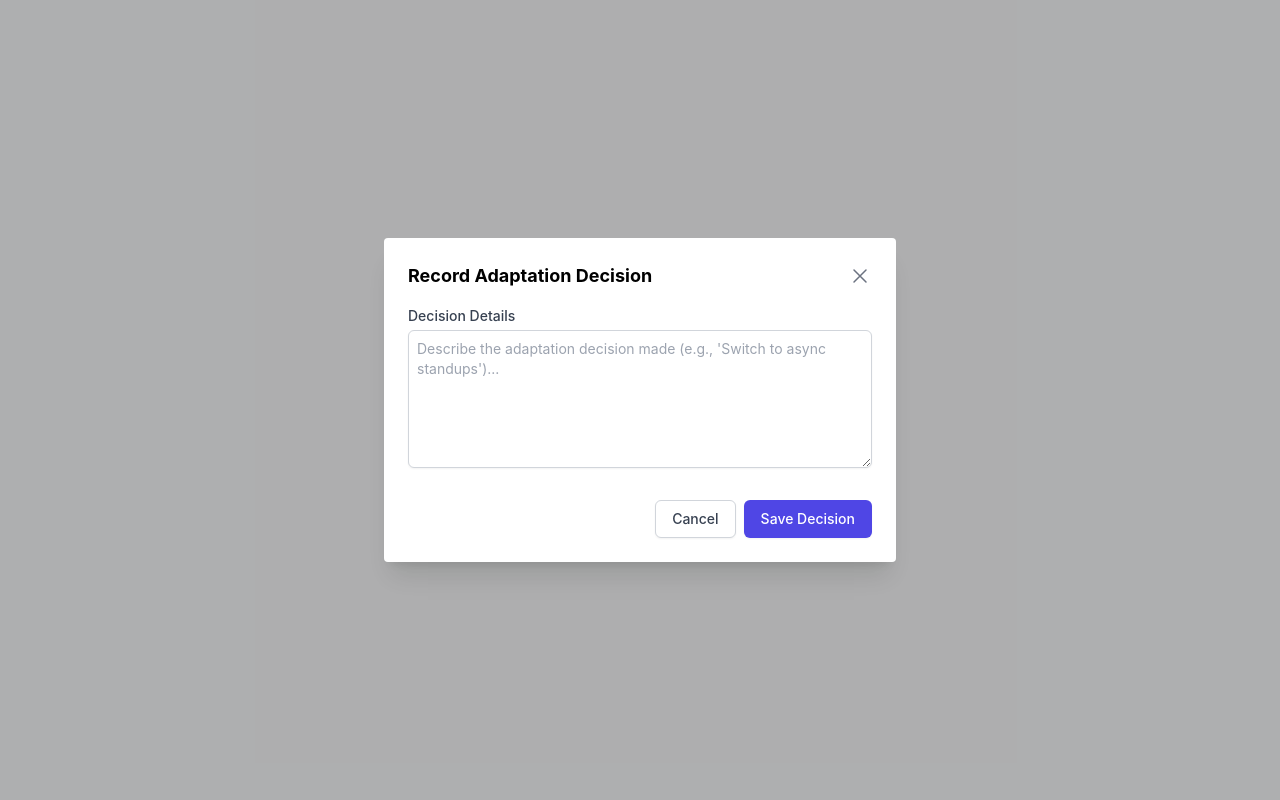
it: DecisionModal › shows validation error if text is too short
Replace the text in the text box labelled "Decision Details" with "short". click: [640, 399]
box: [408,330,872,468]
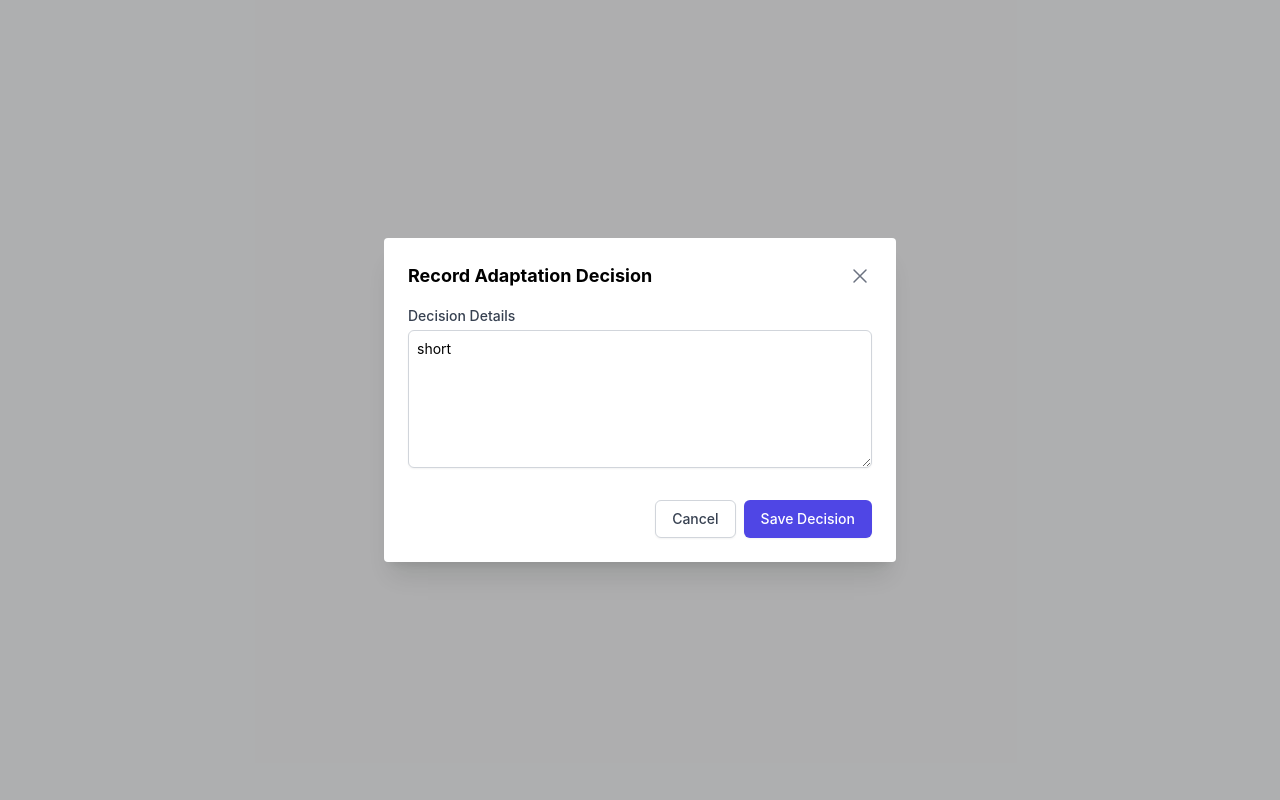
Click the button "Save Decision". click: [808, 519]
box: [744,500,872,538]
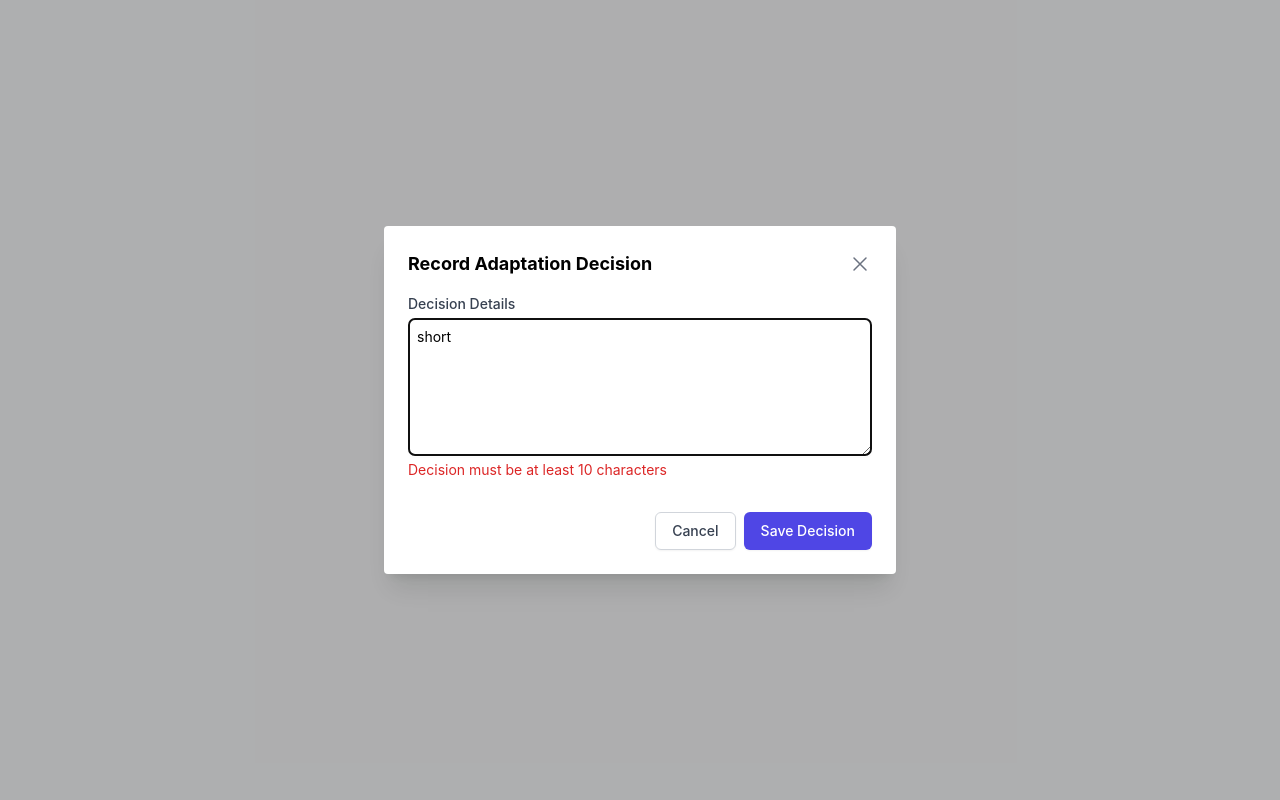
Result: the text "Decision must be at least 10 characters" is shown at [408,461,667,478]
